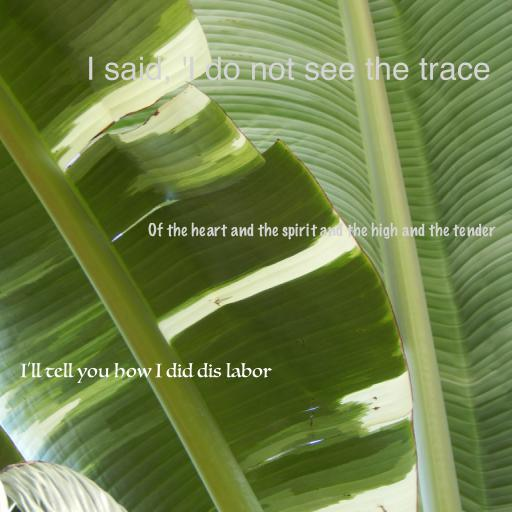Big Caslon: (85, 56, 491, 85)
Luminari: (19, 362, 271, 384)
Marker Felt: (148, 222, 496, 240)
